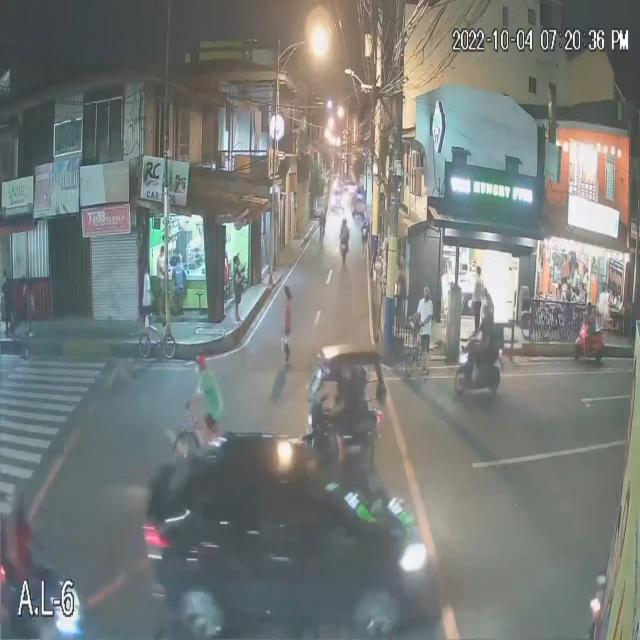Full-Faced: (4, 482, 34, 520)
Invalid: (191, 353, 208, 374)
